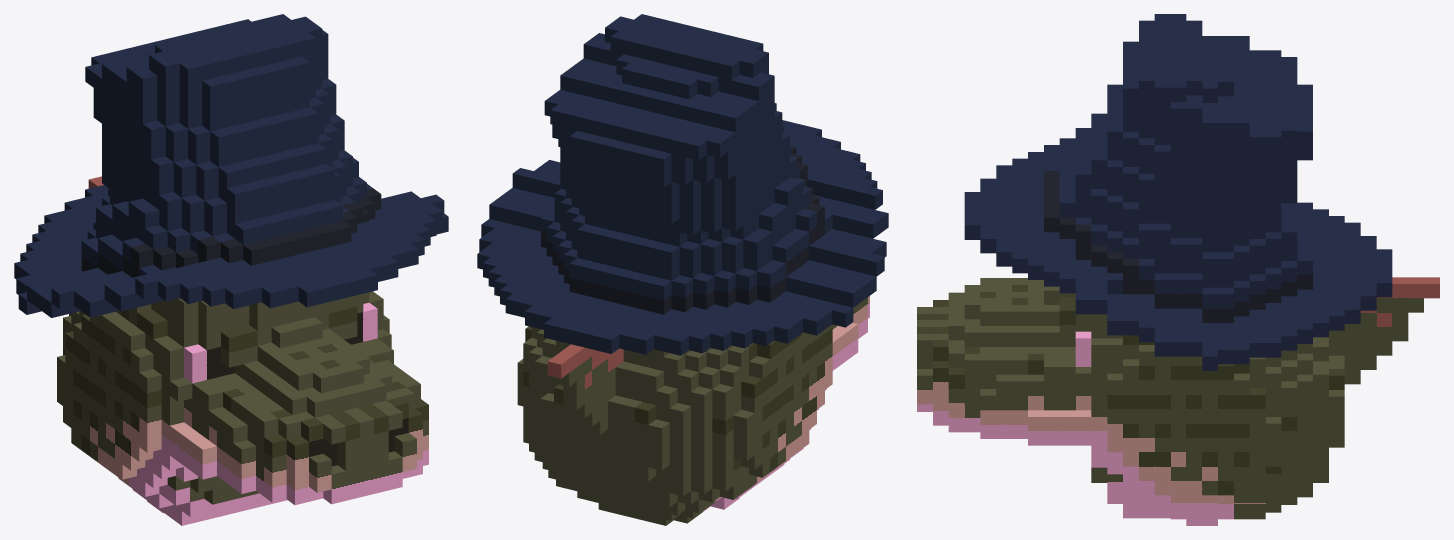
The model's file is top hat_red glasses.gltf.
3 views of the same model, side by side, from view 1: azimuth 30°, elevation 25°; view 2: azimuth 150°, elevation 25°; view 3: azimuth 270°, elevation 25° (orthographic). The views are drawn at different scales.
Parts seen in each view (by area): view 1: C54_H_TopH_RedG_RBSpec_SkyD_LazerL-Mesh; view 2: C54_H_TopH_RedG_RBSpec_SkyD_LazerL-Mesh; view 3: C54_H_TopH_RedG_RBSpec_SkyD_LazerL-Mesh.
Boxes of the visible parts, x1,y1,x2,y2 form: C54_H_TopH_RedG_RBSpec_SkyD_LazerL-Mesh: (14,14,448,525); C54_H_TopH_RedG_RBSpec_SkyD_LazerL-Mesh: (477,14,888,525); C54_H_TopH_RedG_RBSpec_SkyD_LazerL-Mesh: (917,14,1439,525).
Size of the model in its own units: 27 by 31 by 33.
1 material, 1 textured.
